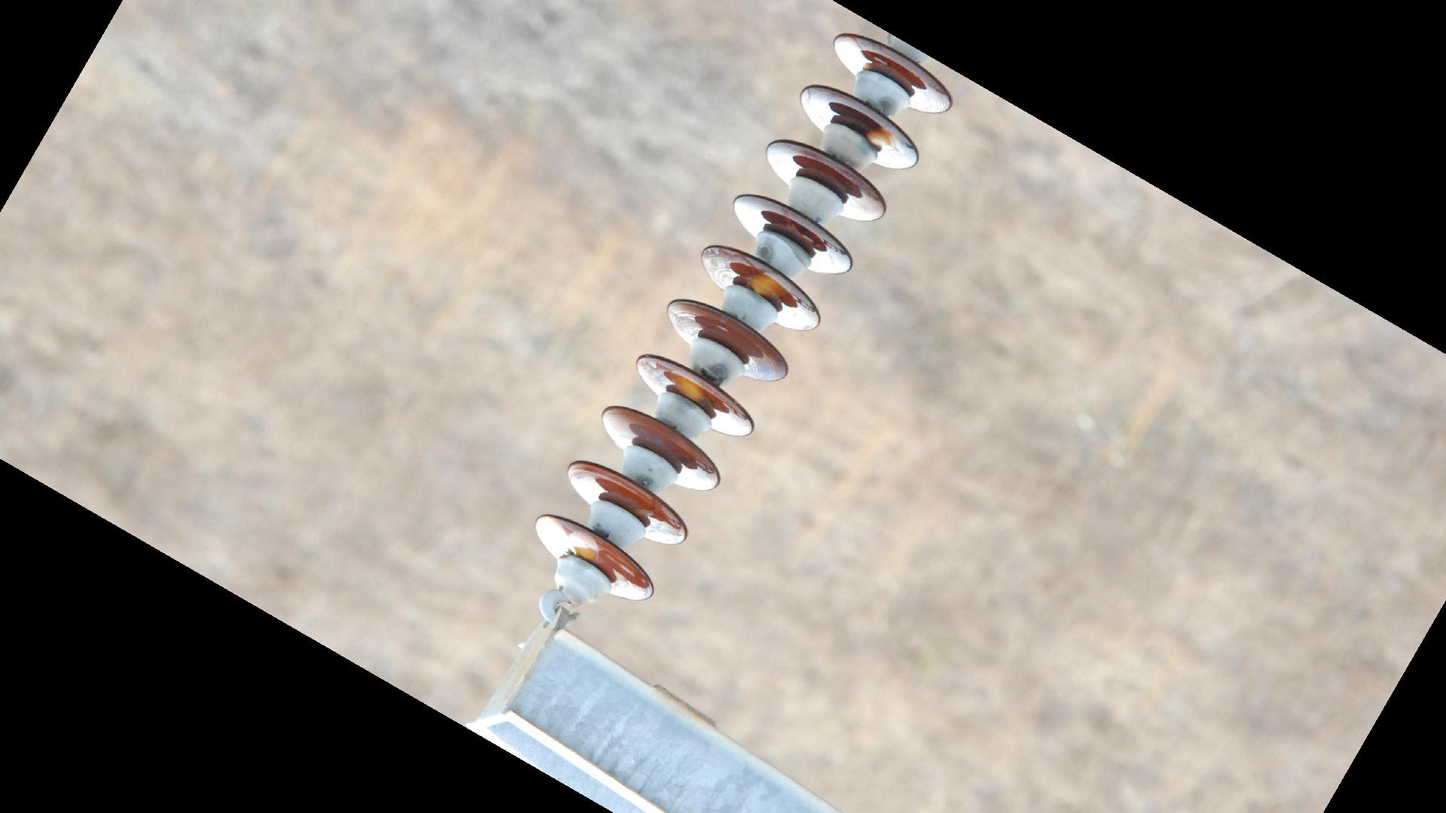insulator: (530, 28, 957, 607)
insulator_flashover: (566, 528, 602, 565), (670, 367, 706, 404), (749, 271, 794, 300), (866, 124, 904, 154)
